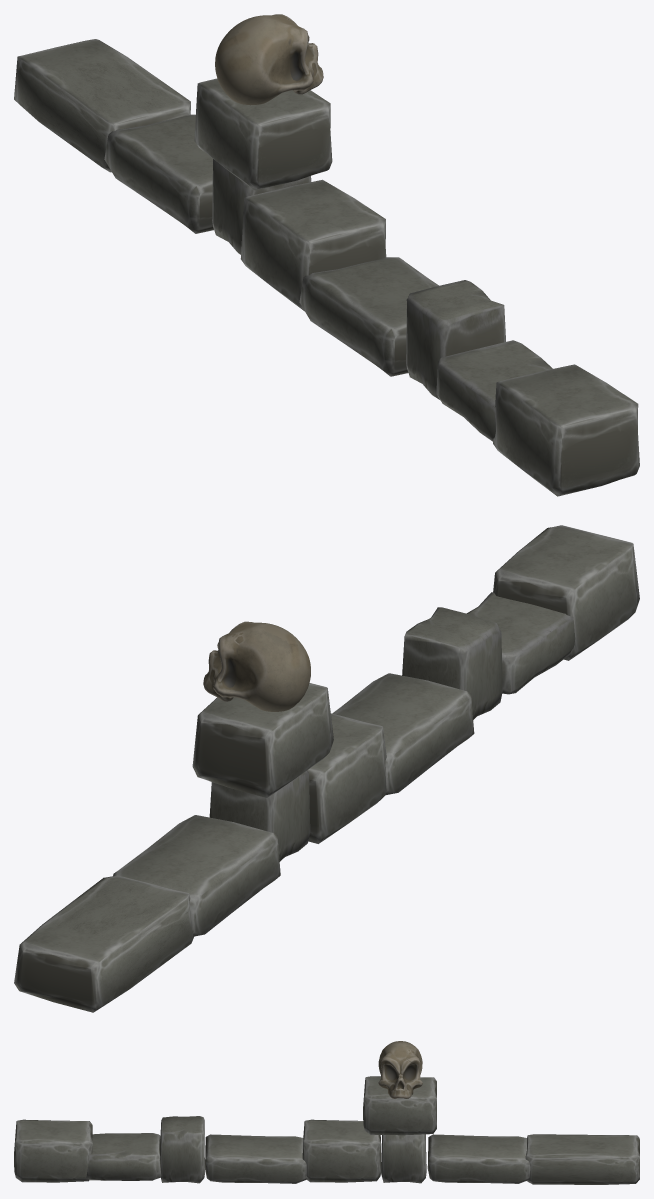
File: Railing_A.fbx
3 views of the same model, one above another, from view 1: azimuth 30°, elevation 25°; view 2: azimuth 150°, elevation 25°; view 3: azimuth 270°, elevation 25° (orthographic). The views are drawn at different scales.
Visible parts, largest first — view 1: Skull_A_LP.002; view 2: Skull_A_LP.002; view 3: Skull_A_LP.002.
Boxes of the visible parts, <box> form: Skull_A_LP.002: <box>14,14,639,496</box>; Skull_A_LP.002: <box>14,525,639,1012</box>; Skull_A_LP.002: <box>14,1041,639,1184</box>.
Size of the model in its own units: 392 by 833 by 3575.
